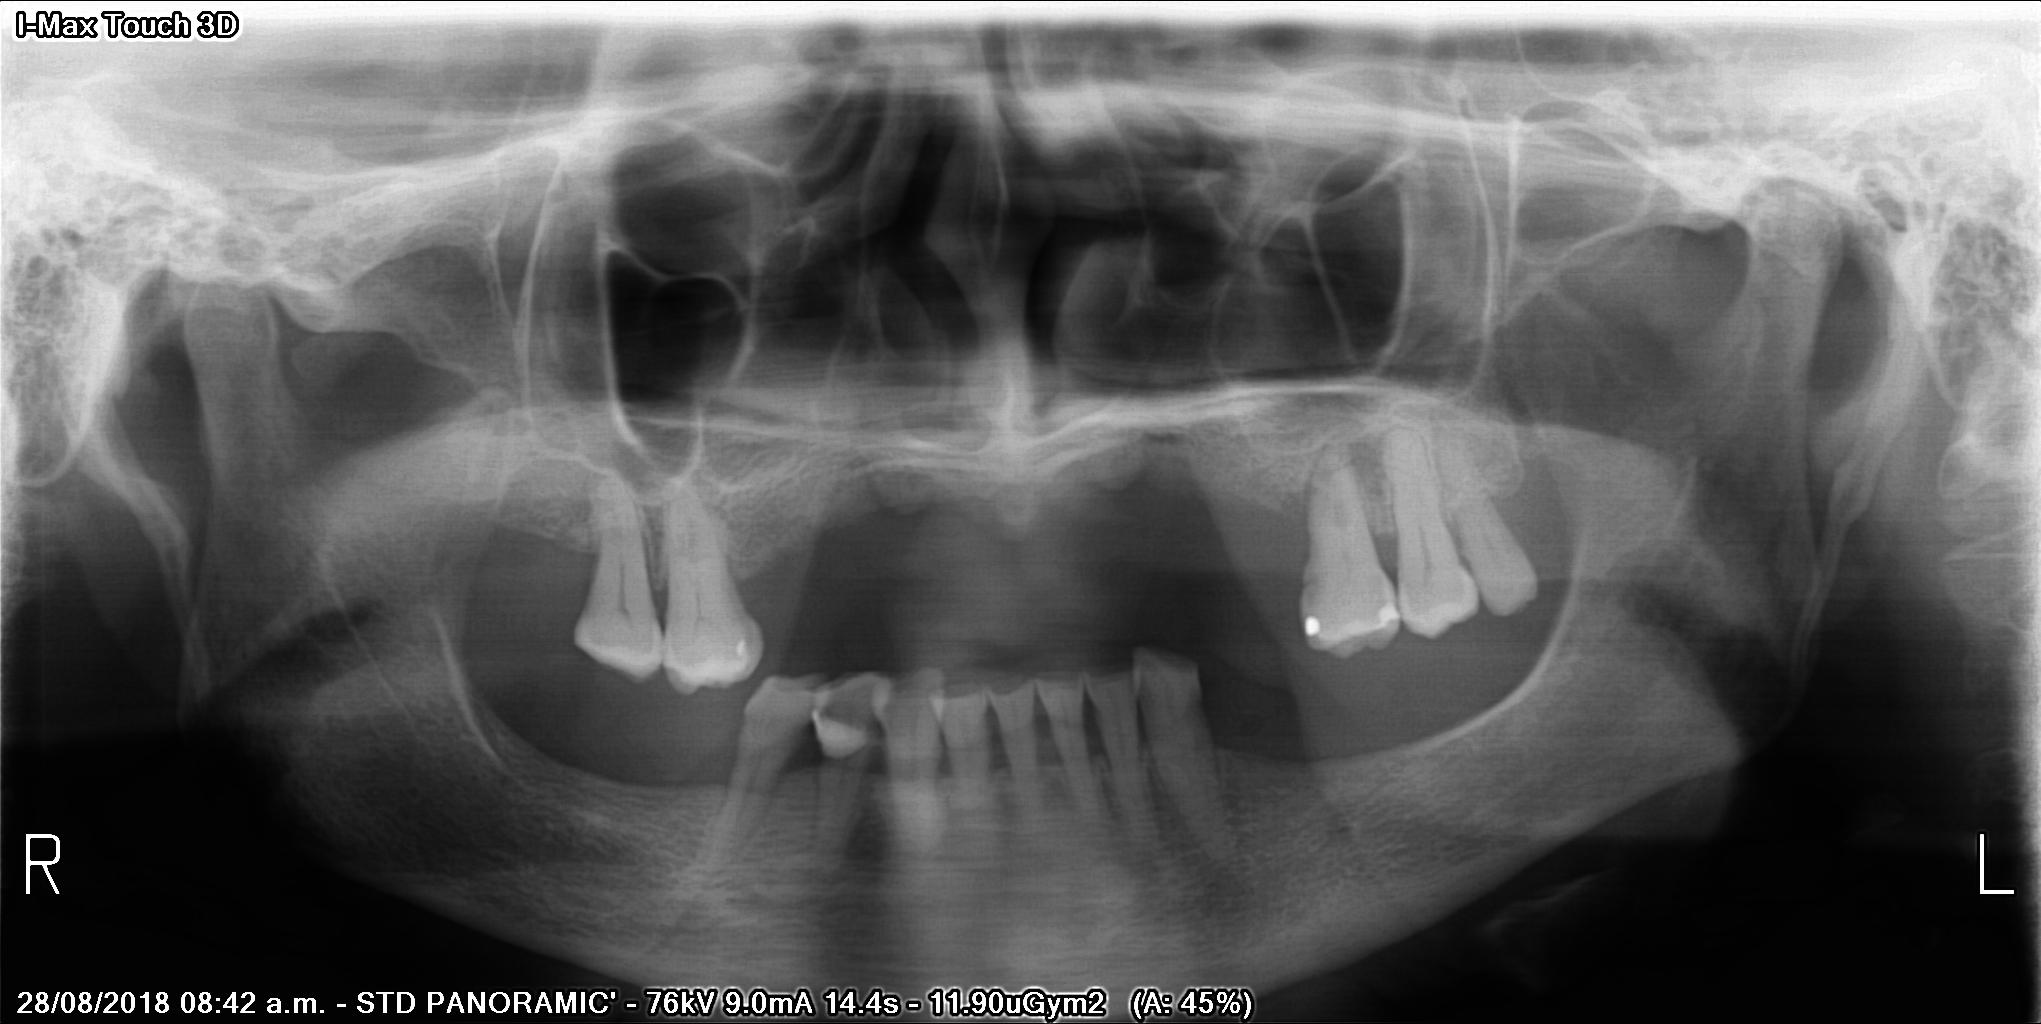Çürük: (1302, 619, 1336, 649), (1371, 600, 1399, 627)
Çürük Bölgesi: (820, 677, 883, 748)
